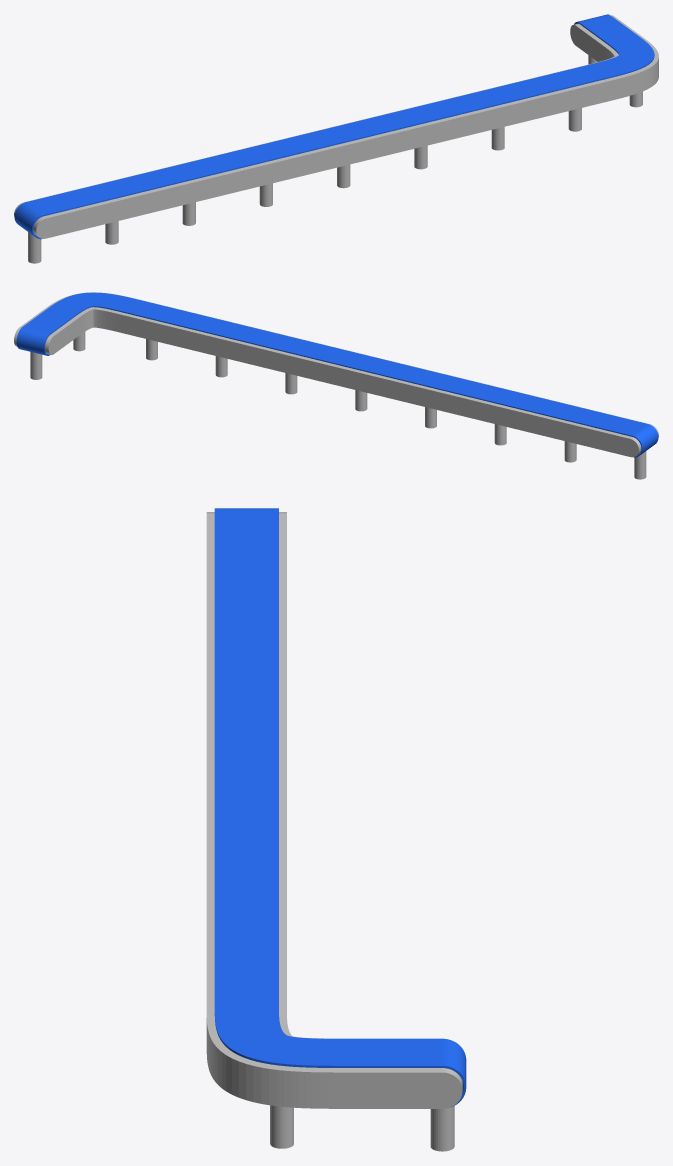
File: 传送带蓝.fbx
3 renders of one model, top to bottom at view 1: azimuth 30°, elevation 25°; view 2: azimuth 150°, elevation 25°; view 3: azimuth 270°, elevation 25°, orthographic. The views are drawn at different scales.
Visible parts, largest first — view 1: 传送带; view 2: 传送带; view 3: 传送带.
Boxes of the visible parts, x1,y1,x2,y2 form: 传送带: (14, 14, 658, 263); 传送带: (14, 292, 658, 479); 传送带: (206, 508, 466, 1151).
Size of the model in its own units: 1677 by 130 by 324.
